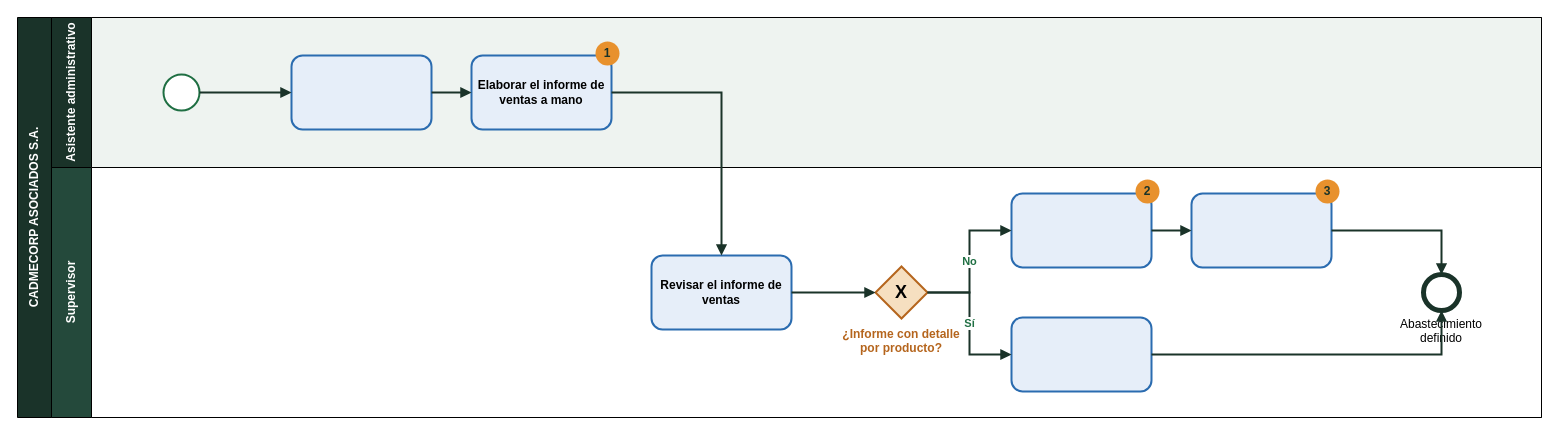
This 1559x435 diagram has some shape labels left out. The shapes that lost their labels are listed below. From the top down, each one's box as (x1, y1, x2, y2) in pixels, then its label:
(162, 73, 200, 111): Se vende material
(290, 54, 432, 130): Registrar la venta en el sistema
(1010, 192, 1152, 268): Decidir el abastecimiento sin datos
(1190, 192, 1332, 268): Lanzar promociones sin análisis
(1010, 316, 1152, 392): Decidir el abastecimiento con datos
